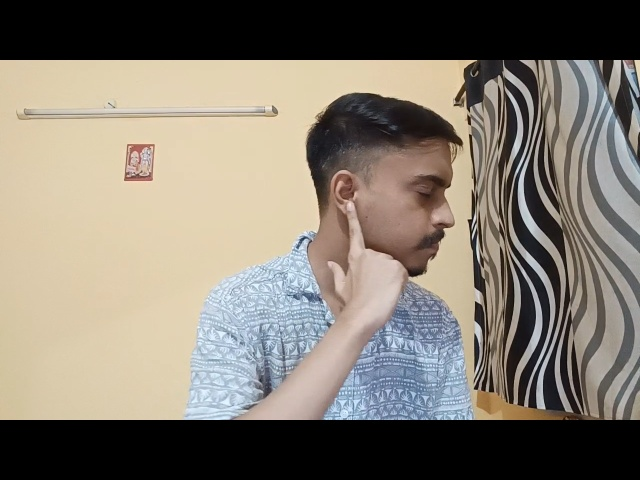Deaf: (269, 119, 448, 358)
